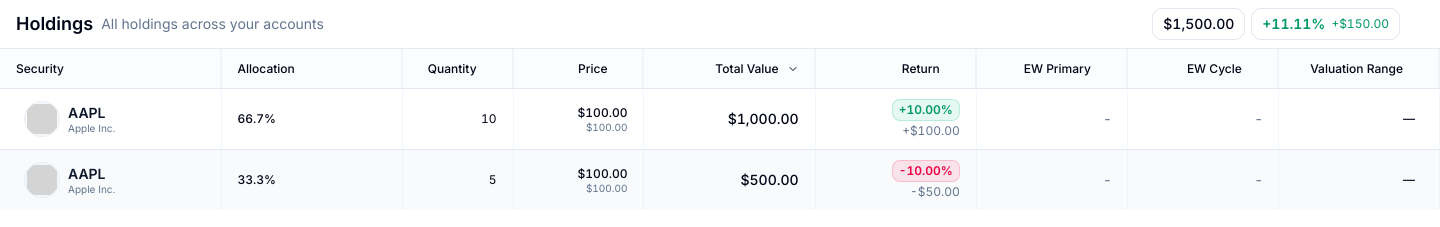
it: Holdings page (+page.svelte) › labels a mixed-basis currency bucket "mixed basis" in the tooltip
Expected: the 1st row with test id "holding-row" is shown, [0,89,1439,150]
Hover over the button with test id "currency-CAD-profit-loss": x=1326, y=24 [1251,8,1400,40]
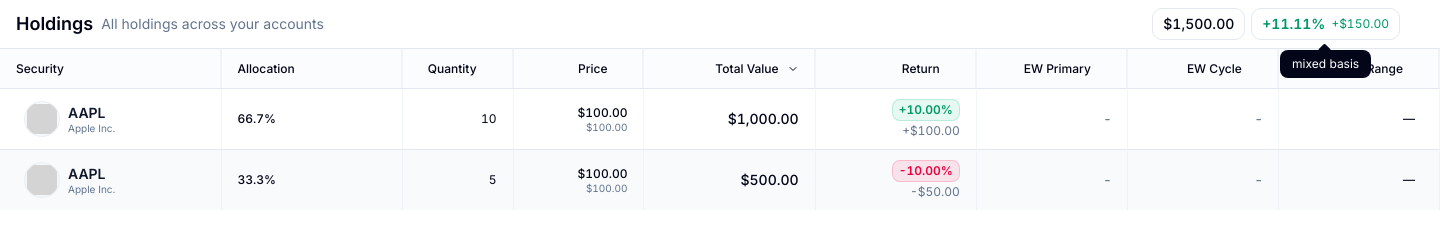
Now the text "mixed basis" is shown, box [1292,56,1359,72]
